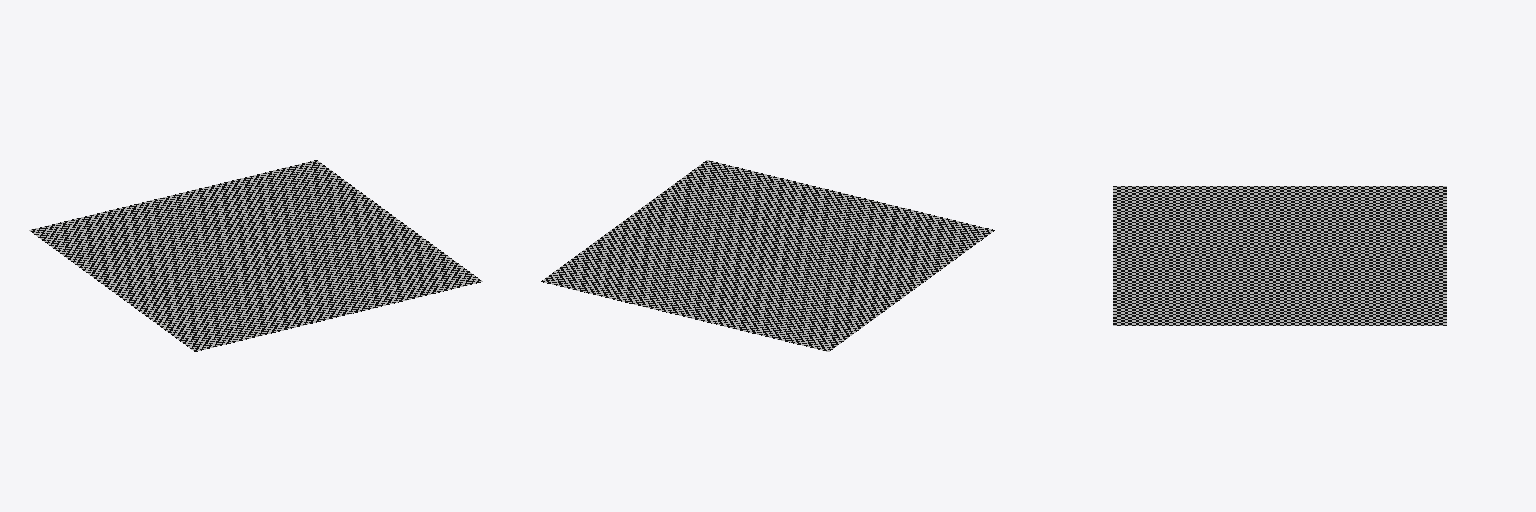
Rendered from chess_ground.obj.
3 renders of one model, left to right at view 1: azimuth 30°, elevation 25°; view 2: azimuth 150°, elevation 25°; view 3: azimuth 270°, elevation 25°, orthographic.
Parts seen in each view (by area): view 1: Cube.006_Cube.021; view 2: Cube.006_Cube.021; view 3: Cube.006_Cube.021.
Boxes of the visible parts, x1,y1,x2,y2 form: Cube.006_Cube.021: [29, 160, 482, 351]; Cube.006_Cube.021: [541, 160, 994, 351]; Cube.006_Cube.021: [1113, 186, 1446, 325].
Bounding box in the file's own units: 90 × 0.02 × 90.